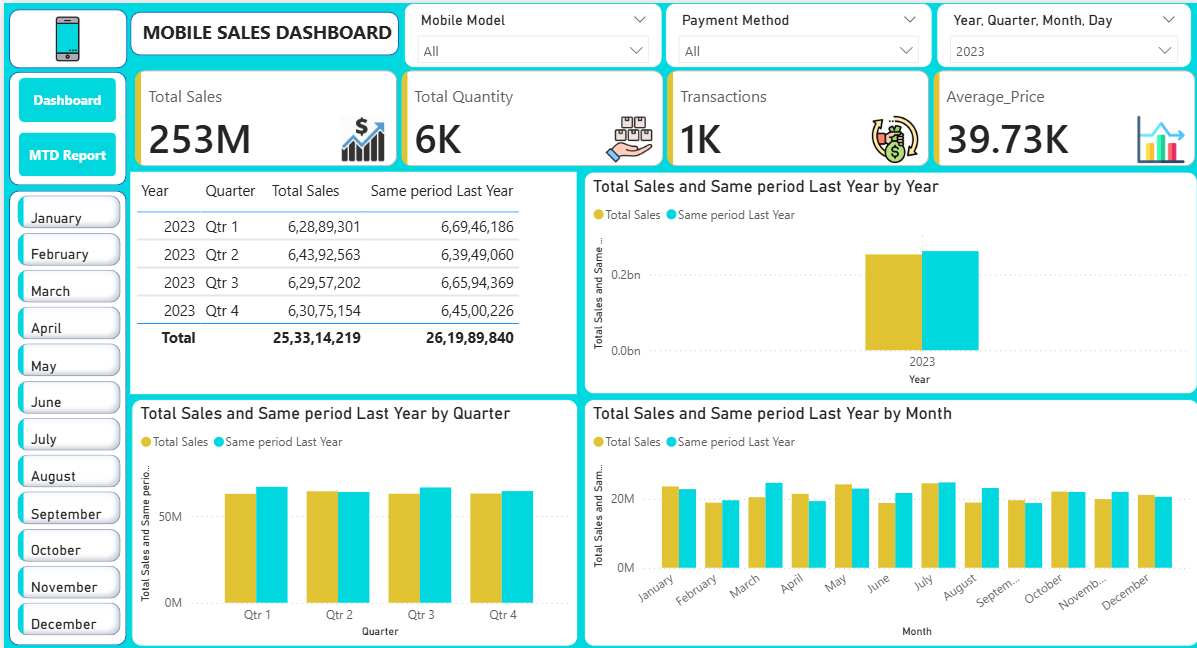

This screenshot's page, from the dashboard's own definition file:
{"tool":"powerbi","page":{"name":"Same Period Last Year","canvas":[1200,650],"ordinal":2},"visuals":[{"type":"shape","box":[4.8,6,118.2,59.1],"z":0},{"type":"shape","box":[5,68.8,117.5,113.8],"z":1000},{"type":"image","box":[30.2,8.4,67.6,54.3],"z":2000},{"type":"cardVisual","fields":{"Data":["_measures.Total Sales","_measures.Total Quantity","_measures.Transactions","_measures.Average_Price"]},"box":[126.2,62.5,1073.8,106.2],"z":3000},{"type":"slicer","fields":{"Values":["Sales Data.Mobile Model"]},"box":[400,0,258.8,65],"z":4000},{"type":"slicer","fields":{"Values":["Sales Data.Payment Method"]},"box":[661.2,0,267.5,65],"z":5000},{"type":"slicer","fields":{"Values":["custom_calander.Date.Variation.Date Hierarchy.Year","custom_calander.Date.Variation.Date Hierarchy.Quarter","custom_calander.Date.Variation.Date Hierarchy.Month","custom_calander.Date.Variation.Date Hierarchy.Day"]},"box":[932.5,0,255,65],"z":6000},{"type":"shape","box":[5,187.5,117.5,455],"z":7000},{"type":"advancedSlicerVisual","fields":{"Values":["custom_calander.Date.Variation.Date Hierarchy.Month"]},"box":[8.8,187.5,113.8,455],"z":8000},{"type":"tableEx","fields":{"Values":["custom_calander.Date.Variation.Date Hierarchy.Year","custom_calander.Date.Variation.Date Hierarchy.Quarter","_measures.Total Sales","_measures.Same period Last Year"]},"box":[126.2,168.8,446.2,222.5],"z":9000},{"type":"clusteredColumnChart","fields":{"Category":["custom_calander.Date.Variation.Date Hierarchy.Year","custom_calander.Date.Variation.Date Hierarchy.Quarter"],"Y":["_measures.Total Sales","_measures.Same period Last Year"]},"box":[580,168.8,613.8,222.5],"z":10000},{"type":"clusteredColumnChart","fields":{"Y":["_measures.Total Sales","_measures.Same period Last Year"],"Category":["custom_calander.Date.Variation.Date Hierarchy.Month"]},"box":[580,396.2,615,247.5],"z":11000},{"type":"clusteredColumnChart","fields":{"Category":["custom_calander.Date.Variation.Date Hierarchy.Quarter"],"Y":["_measures.Total Sales","_measures.Same period Last Year"]},"box":[127.5,396.2,446.2,247.5],"z":12000},{"type":"pageNavigator","box":[15,75,97.5,98.8],"z":13000},{"type":"shape","box":[126.2,8.8,268.8,43.8],"z":14000},{"type":"textbox","box":[131.2,11.2,263.8,43.8],"z":15000}]}

Visuals, with their boxes in screenshot pixels (x1, y1, x2, y2), scaled from the page's 1200x650 canvas onto the 1197x648 screenshot:
shape: bbox=(5, 6, 123, 65)
shape: bbox=(5, 69, 122, 182)
image: bbox=(30, 8, 98, 63)
cardVisual - _measures.Total Sales x _measures.Total Quantity: bbox=(126, 62, 1196, 168)
slicer - Sales Data.Mobile Model: bbox=(399, 0, 657, 65)
slicer - Sales Data.Payment Method: bbox=(660, 0, 926, 65)
slicer - custom_calander.Date.Variation.Date Hierarchy.Year x custom_calander.Date.Variation.Date Hierarchy.Quarter: bbox=(930, 0, 1185, 65)
shape: bbox=(5, 187, 122, 641)
advancedSlicerVisual - custom_calander.Date.Variation.Date Hierarchy.Month: bbox=(9, 187, 122, 641)
tableEx - custom_calander.Date.Variation.Date Hierarchy.Year x custom_calander.Date.Variation.Date Hierarchy.Quarter: bbox=(126, 168, 571, 390)
clusteredColumnChart - custom_calander.Date.Variation.Date Hierarchy.Year x custom_calander.Date.Variation.Date Hierarchy.Quarter: bbox=(579, 168, 1191, 390)
clusteredColumnChart - _measures.Total Sales x _measures.Same period Last Year: bbox=(579, 395, 1192, 642)
clusteredColumnChart - custom_calander.Date.Variation.Date Hierarchy.Quarter x _measures.Total Sales: bbox=(127, 395, 572, 642)
pageNavigator: bbox=(15, 75, 112, 173)
shape: bbox=(126, 9, 394, 52)
textbox: bbox=(131, 11, 394, 55)
